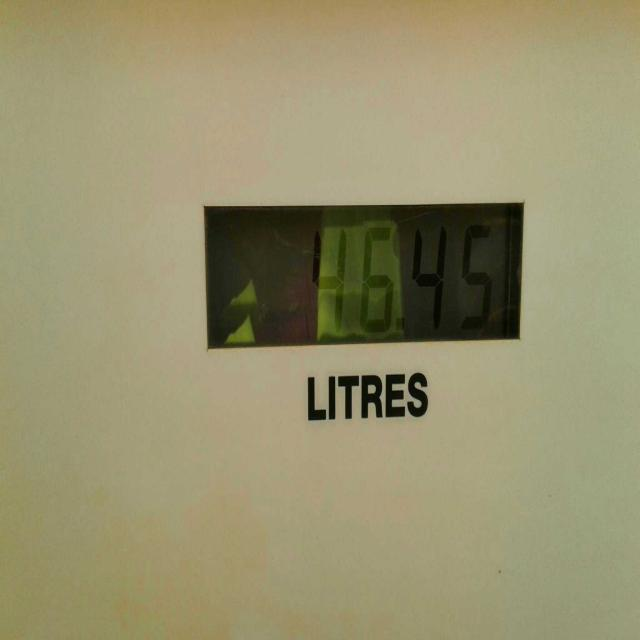.: (397, 313, 407, 333)
4: (315, 236, 348, 336), (415, 228, 447, 327)
5: (462, 222, 493, 328)
6: (360, 226, 395, 338)
